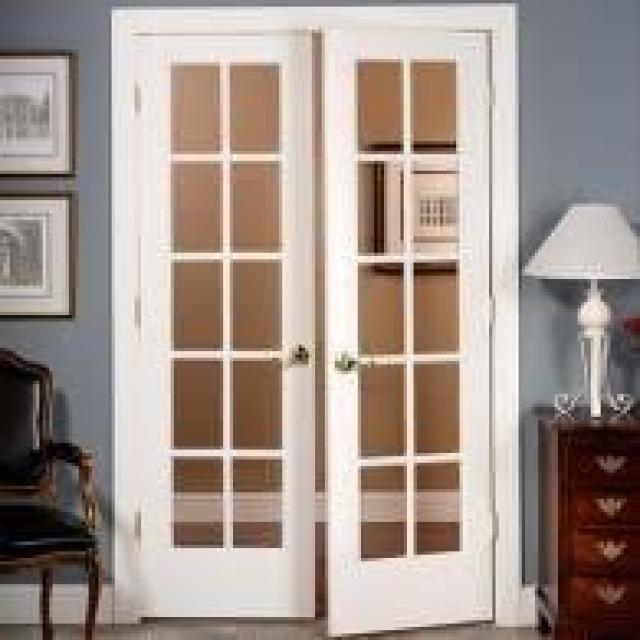Door: (128, 19, 502, 614)
